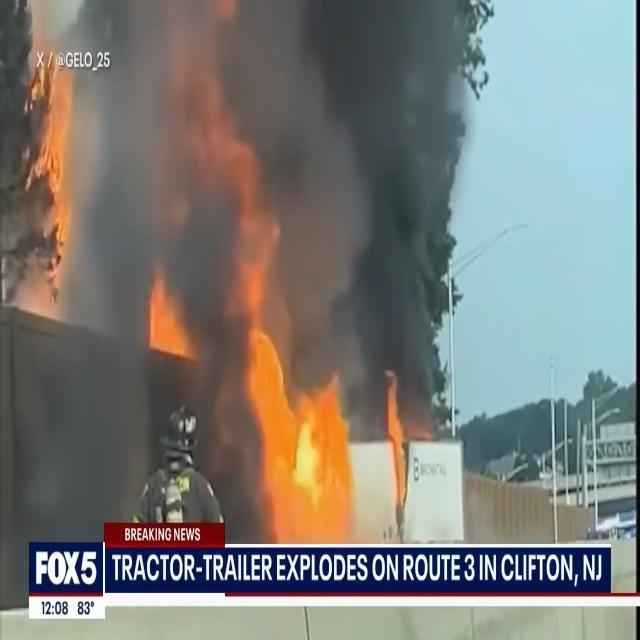fire: (245, 322, 372, 544), (207, 110, 280, 302), (32, 104, 100, 288), (138, 260, 204, 370)
